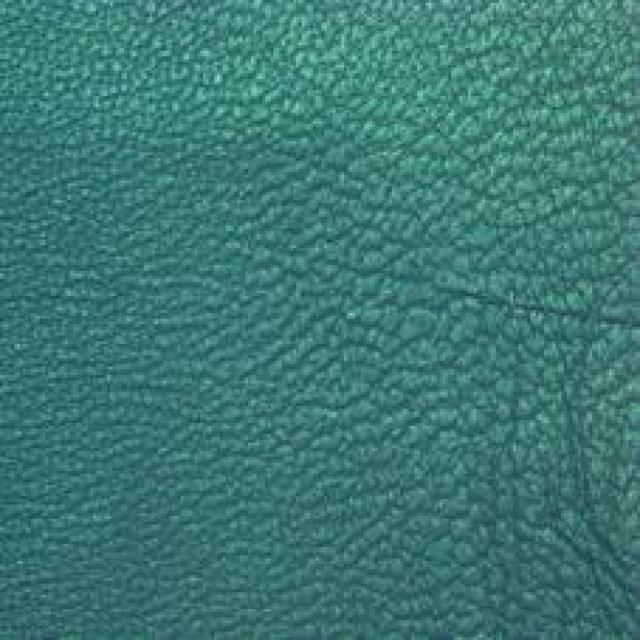Growth Marks: (423, 308, 616, 618)
